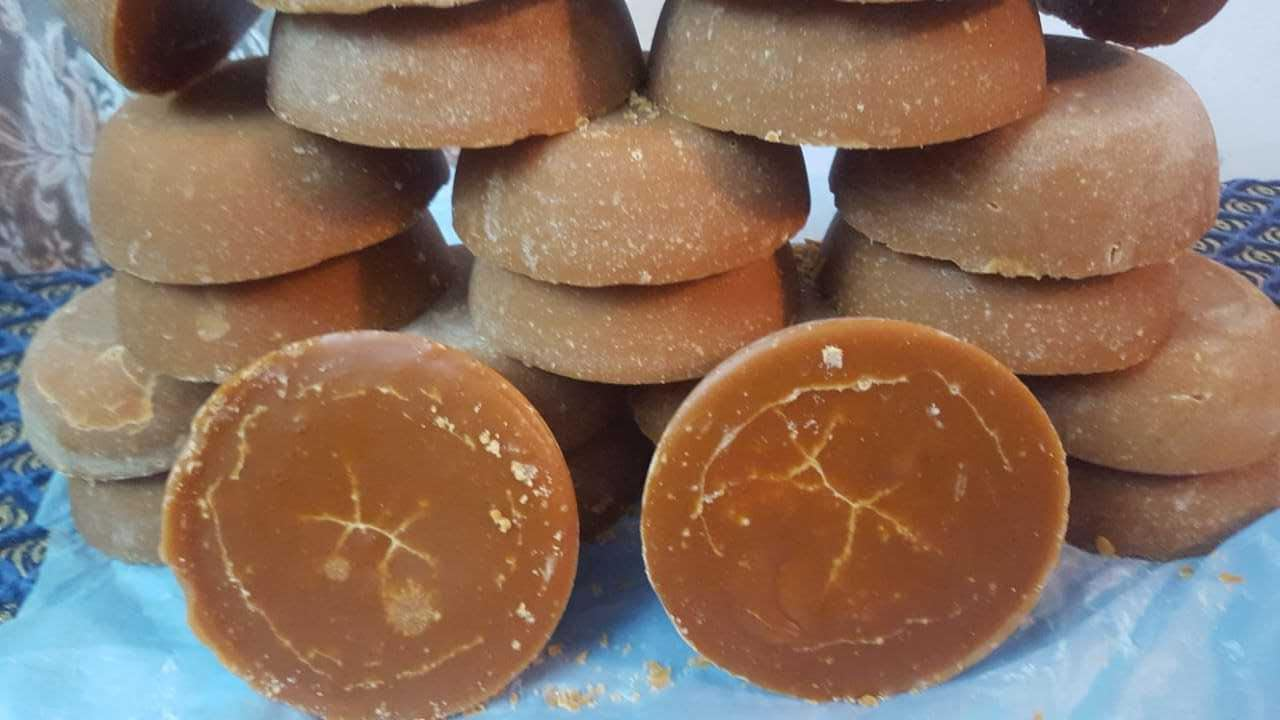hakuru: (636, 317, 1074, 703), (156, 327, 583, 720), (823, 39, 1234, 281), (87, 69, 439, 286), (450, 85, 807, 286)
